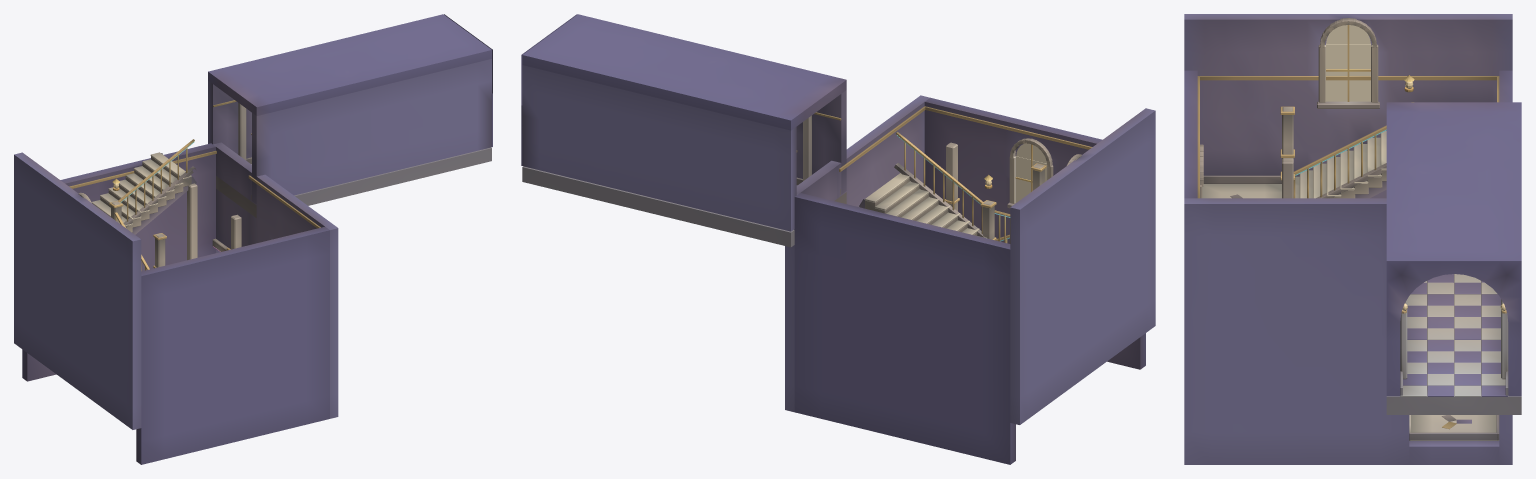
The model's file is escher_stair.glb.
3 views of the same model, side by side, from view 1: azimuth 30°, elevation 25°; view 2: azimuth 150°, elevation 25°; view 3: azimuth 270°, elevation 25° (orthographic). The views are drawn at different scales.
Parts seen in each view (by area): view 1: esc_lap_m, esc_passage_m; view 2: esc_lap_m, esc_passage_m; view 3: esc_lap_m, esc_passage_m.
Part boxes in pixels (x1=…): esc_lap_m: x1=14, y1=139, x2=338, y2=464; esc_passage_m: x1=208, y1=14, x2=492, y2=217; esc_lap_m: x1=785, y1=95, x2=1155, y2=464; esc_passage_m: x1=521, y1=14, x2=846, y2=247; esc_lap_m: x1=1184, y1=14, x2=1512, y2=464; esc_passage_m: x1=1386, y1=102, x2=1521, y2=414.
Size of the model in its own units: 15.38 by 8.83 by 7.5.
